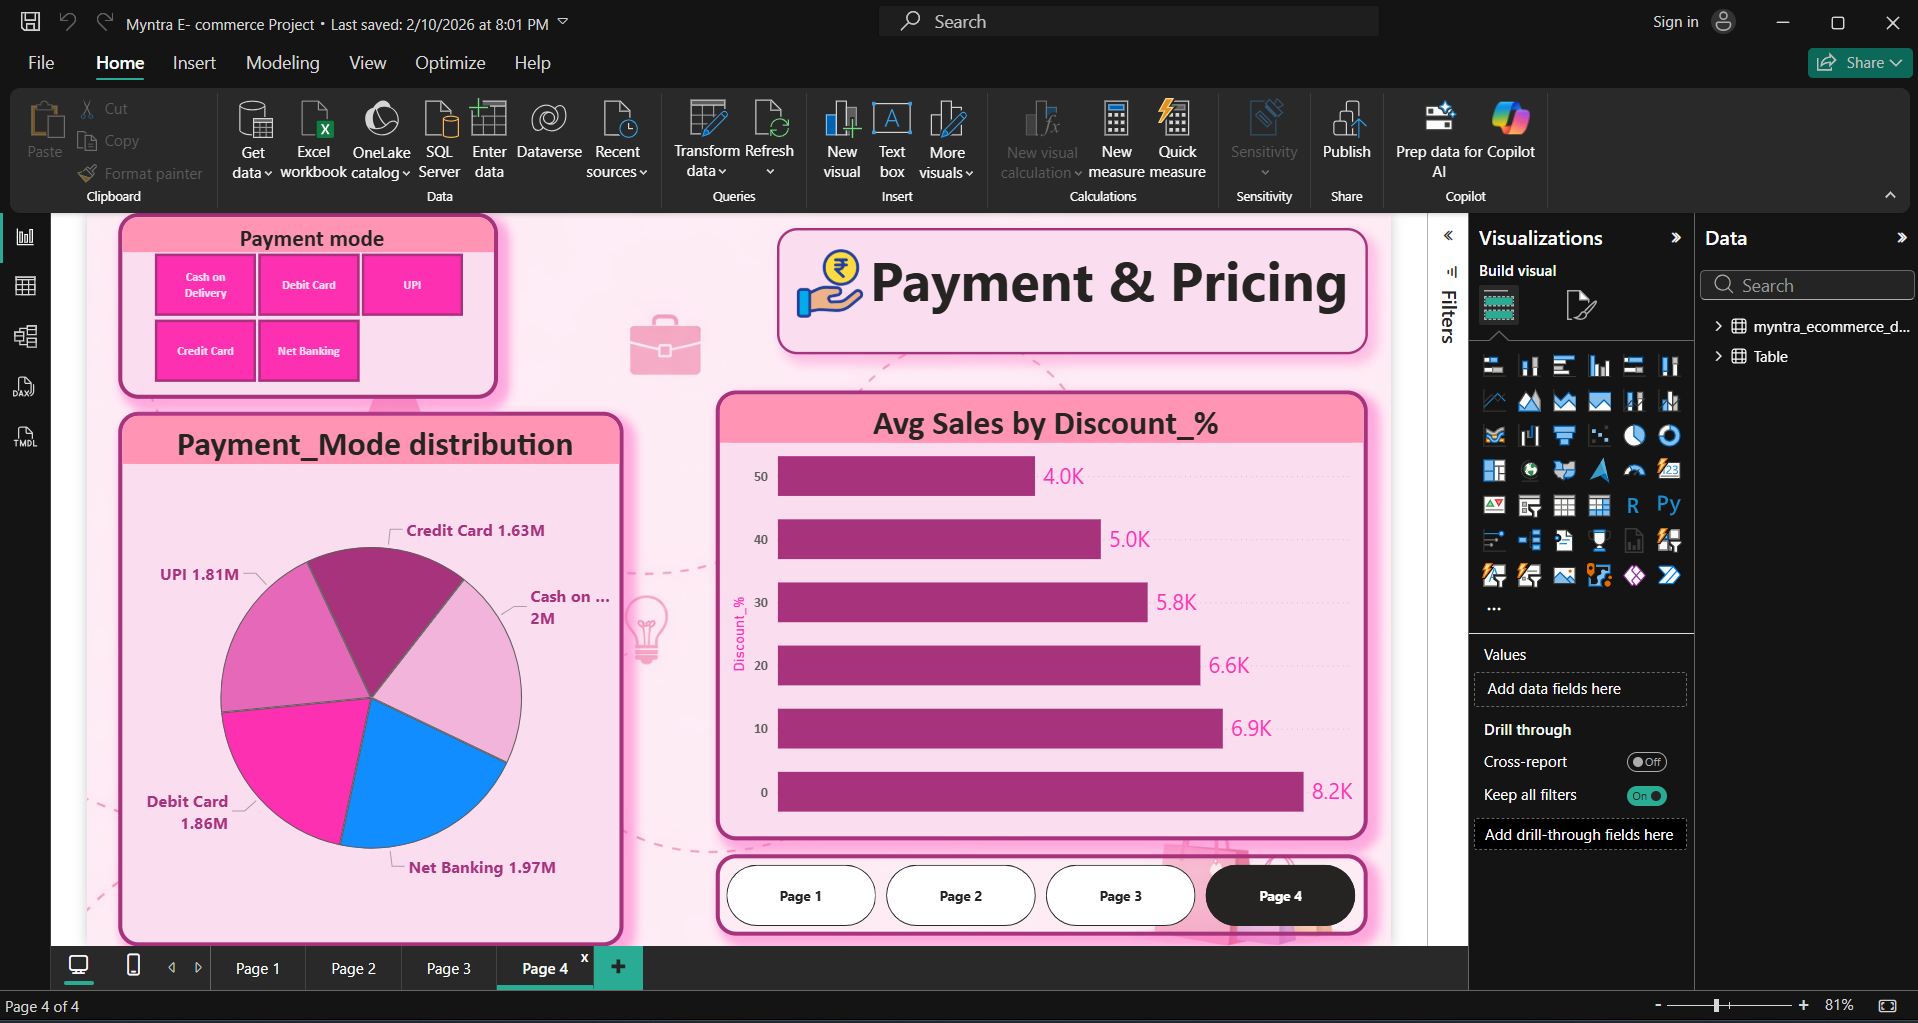

The dashboard page shown, as its layout file describes it:
{"tool":"powerbi","page":{"name":"Page 4","canvas":[1280,720],"ordinal":3},"visuals":[{"type":"pieChart","title":"Payment_Mode distribution","fields":{"Category":["myntra_ecommerce_dataset (1).Payment_Mode"],"Y":["Sum(myntra_ecommerce_dataset (1).Sales_Amount)"]},"box":[31.2,195,496.2,525],"z":0},{"type":"barChart","title":"Avg Sales by Discount_%","fields":{"Y":["Avg(myntra_ecommerce_dataset (1).Sales_Amount)"],"Category":["myntra_ecommerce_dataset (1).Discount_%"]},"box":[617.5,173.8,640,441.2],"z":1000},{"type":"textbox","box":[677.5,15,580,123.8],"z":2000},{"type":"image","box":[677.5,35,103.8,67.5],"z":3000},{"type":"pageNavigator","box":[617.5,630,640,80],"z":4000},{"type":"slicer","title":"Payment mode","fields":{"Values":["myntra_ecommerce_dataset (1).Payment_Mode"]},"box":[31.2,0,372.5,182.5],"z":5000}]}

Visuals, with their boxes on the page's 1280x720 design canvas (x1, y1, x2, y2). These are canvas units, not pixel positions in the 1918x1023 screenshot, which may show the page scaled, cropped or inside an application window:
"Payment_Mode distribution" pieChart: l=31, t=195, r=527, b=720
"Avg Sales by Discount_%" barChart: l=618, t=174, r=1258, b=615
textbox: l=678, t=15, r=1258, b=139
image: l=678, t=35, r=781, b=102
pageNavigator: l=618, t=630, r=1258, b=710
"Payment mode" slicer: l=31, t=0, r=404, b=182
